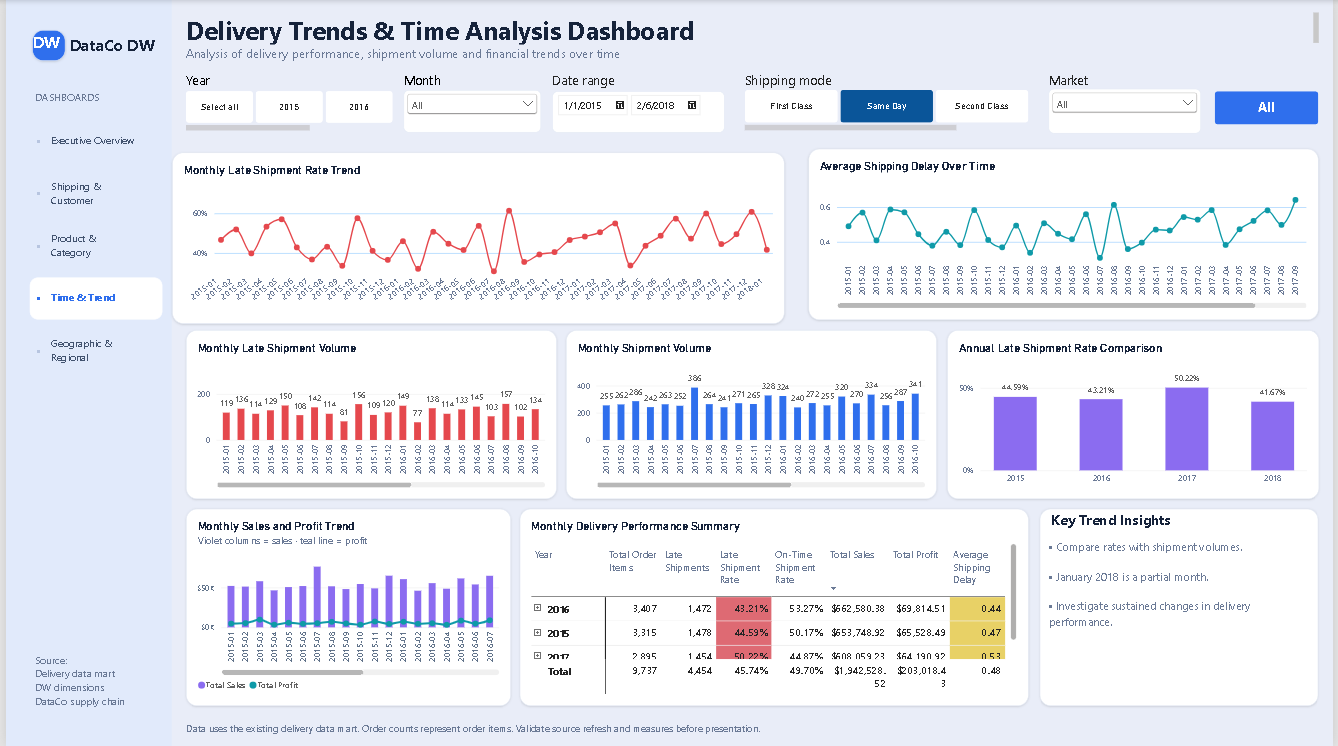

Layout of this report page (visuals, bound fields, positions):
{"tool":"powerbi","page":{"name":"Time & Trend","canvas":[1920,1080],"ordinal":3},"visuals":[{"type":"textbox","box":[0,0,240,1080],"z":0},{"type":"textbox","box":[38,44,48,45],"z":1000},{"type":"textbox","box":[92,48,136,42],"z":2000},{"type":"textbox","box":[42,130,180,30],"z":3000},{"type":"textbox","box":[42,944,174,95],"z":4000},{"type":"textbox","box":[260,18,1640,46],"z":5000},{"type":"textbox","box":[260,65,1640,25],"z":6000},{"type":"textbox","box":[260,1045,1640,24],"z":7000},{"type":"lineChart","title":"Monthly Late Shipment Rate Trend","fields":{"Category":["DW DimDate.Year Month"],"Y":["DM FactDeliveryPerformance.Late Shipment Rate"]},"box":[240,220,886.7,247.9],"z":13000},{"type":"lineChart","title":"Average Shipping Delay Over Time","fields":{"Category":["DW DimDate.Year Month"],"Y":["DM FactDeliveryPerformance.Average Shipping Delay"]},"box":[1161.8,215.3,738.3,247.9],"z":14000},{"type":"clusteredColumnChart","title":"Monthly Late Shipment Volume","fields":{"Category":["DW DimDate.Year Month"],"Y":["DM FactDeliveryPerformance.Late Shipments"]},"box":[260.6,477.8,537,245],"z":15000},{"type":"clusteredColumnChart","title":"Monthly Shipment Volume","fields":{"Category":["DW DimDate.Year Month"],"Y":["DM FactDeliveryPerformance.Total Order Items"]},"box":[810.7,477.8,537,245],"z":16000},{"type":"columnChart","title":"Annual Late Shipment Rate Comparison","fields":{"Category":["DW DimDate.Year"],"Y":["DM FactDeliveryPerformance.Late Shipment Rate"]},"box":[1362.7,477.8,538,245],"z":17000},{"type":"lineClusteredColumnComboChart","title":"Monthly Sales and Profit Trend","fields":{"Category":["DW DimDate.Year Month"],"Y":["DM FactDeliveryPerformance.Total Sales"],"Y2":["DM FactDeliveryPerformance.Total Profit"]},"box":[260.6,736.5,470.5,285.9],"z":18000},{"type":"pivotTable","title":"Monthly Delivery Performance Summary","fields":{"Rows":["DW DimDate.Year","DW DimDate.Year Month"],"Values":["DM FactDeliveryPerformance.Total Order Items","DM FactDeliveryPerformance.Late Shipments","DM FactDeliveryPerformance.Late Shipment Rate","DM FactDeliveryPerformance.On-Time Shipment Rate","DM FactDeliveryPerformance.Total Sales","DM FactDeliveryPerformance.Total Profit","DM FactDeliveryPerformance.Average Shipping Delay"]},"box":[743.8,736.5,736.5,285.9],"z":19000},{"type":"textbox","box":[1496.6,736.5,403.6,285.9],"z":20000},{"type":"textbox","box":[1509.3,780,372.8,231.6],"z":21000},{"type":"textbox","box":[34,402,192,61],"z":22000},{"type":"textbox","box":[65,191,165,48],"z":23000},{"type":"textbox","box":[65,258,165,48],"z":24000},{"type":"textbox","box":[65,334,165,48],"z":25000},{"type":"textbox","box":[65,419,165,48],"z":26000},{"type":"textbox","box":[65,486,165,48],"z":27000},{"type":"textbox","box":[44,420,22,28],"z":28000},{"type":"textbox","box":[44,496,22,28],"z":29000},{"type":"textbox","box":[44,268,22,28],"z":30000},{"type":"textbox","box":[44,344,22,28],"z":31000},{"type":"textbox","box":[44,192,22,28],"z":32000},{"type":"actionButton","box":[34,174,192,61],"z":33000},{"type":"actionButton","box":[34,250,192,61],"z":34000},{"type":"actionButton","box":[34,326,192,61],"z":35000},{"type":"actionButton","box":[34,402,192,61],"z":36000},{"type":"actionButton","box":[34,478,192,61],"z":37000},{"type":"textbox","box":[1509.3,103.2,220.8,27.1],"z":38000},{"type":"textbox","box":[260.6,103.2,126.7,27.1],"z":39000},{"type":"textbox","box":[790.8,103.2,278.7,29],"z":40000},{"type":"textbox","box":[1069.5,103.2,293.2,27.1],"z":41000},{"type":"textbox","box":[575.5,103.2,199.1,27.1],"z":42000},{"type":"slicer","fields":{"Values":["DW DimDate.Year Month"]},"box":[575.5,130.3,199.1,61.5],"z":43000},{"type":"slicer","fields":{"Values":["DW DimLocation.Market"]},"box":[1509.3,128.5,220.8,65.1],"z":44000},{"type":"advancedSlicerVisual","fields":{"Values":["DW DimShipping.Shipping_Mode"]},"box":[1069.5,130.3,410,60],"z":45000},{"type":"slicer","fields":{"Values":["DW DimDate.FullDate"]},"box":[790.8,132.1,249.7,59.7],"z":46000},{"type":"advancedSlicerVisual","fields":{"Values":["DW DimDate.Year"]},"box":[260.6,132.1,300.4,59.7],"z":47000},{"type":"actionButton","box":[1749.9,132.1,150,48],"z":48000}]}

Visuals, with their boxes on the page's 1920x1080 design canvas (x1, y1, x2, y2). These are canvas units, not pixel positions in the 1338x746 screenshot, which may show the page scaled, cropped or inside an application window:
textbox: left=0, top=0, right=240, bottom=1080
textbox: left=38, top=44, right=86, bottom=89
textbox: left=92, top=48, right=228, bottom=90
textbox: left=42, top=130, right=222, bottom=160
textbox: left=42, top=944, right=216, bottom=1039
textbox: left=260, top=18, right=1900, bottom=64
textbox: left=260, top=65, right=1900, bottom=90
textbox: left=260, top=1045, right=1900, bottom=1069
"Monthly Late Shipment Rate Trend" lineChart: left=240, top=220, right=1127, bottom=468
"Average Shipping Delay Over Time" lineChart: left=1162, top=215, right=1900, bottom=463
"Monthly Late Shipment Volume" clusteredColumnChart: left=261, top=478, right=798, bottom=723
"Monthly Shipment Volume" clusteredColumnChart: left=811, top=478, right=1348, bottom=723
"Annual Late Shipment Rate Comparison" columnChart: left=1363, top=478, right=1901, bottom=723
"Monthly Sales and Profit Trend" lineClusteredColumnComboChart: left=261, top=736, right=731, bottom=1022
"Monthly Delivery Performance Summary" pivotTable: left=744, top=736, right=1480, bottom=1022
textbox: left=1497, top=736, right=1900, bottom=1022
textbox: left=1509, top=780, right=1882, bottom=1012
textbox: left=34, top=402, right=226, bottom=463
textbox: left=65, top=191, right=230, bottom=239
textbox: left=65, top=258, right=230, bottom=306
textbox: left=65, top=334, right=230, bottom=382
textbox: left=65, top=419, right=230, bottom=467
textbox: left=65, top=486, right=230, bottom=534
textbox: left=44, top=420, right=66, bottom=448
textbox: left=44, top=496, right=66, bottom=524
textbox: left=44, top=268, right=66, bottom=296
textbox: left=44, top=344, right=66, bottom=372
textbox: left=44, top=192, right=66, bottom=220
actionButton: left=34, top=174, right=226, bottom=235
actionButton: left=34, top=250, right=226, bottom=311
actionButton: left=34, top=326, right=226, bottom=387
actionButton: left=34, top=402, right=226, bottom=463
actionButton: left=34, top=478, right=226, bottom=539
textbox: left=1509, top=103, right=1730, bottom=130
textbox: left=261, top=103, right=387, bottom=130
textbox: left=791, top=103, right=1070, bottom=132
textbox: left=1070, top=103, right=1363, bottom=130
textbox: left=576, top=103, right=775, bottom=130
slicer - DW DimDate.Year Month: left=576, top=130, right=775, bottom=192
slicer - DW DimLocation.Market: left=1509, top=128, right=1730, bottom=194
advancedSlicerVisual - DW DimShipping.Shipping_Mode: left=1070, top=130, right=1480, bottom=190
slicer - DW DimDate.FullDate: left=791, top=132, right=1040, bottom=192
advancedSlicerVisual - DW DimDate.Year: left=261, top=132, right=561, bottom=192
actionButton: left=1750, top=132, right=1900, bottom=180
